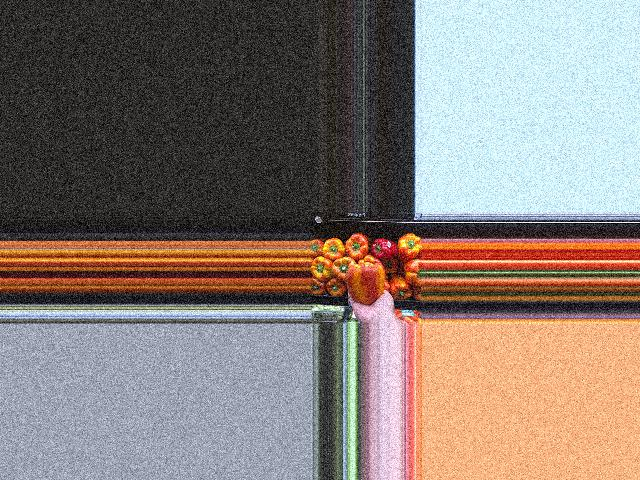bell_pepper: (387, 276, 414, 297)
